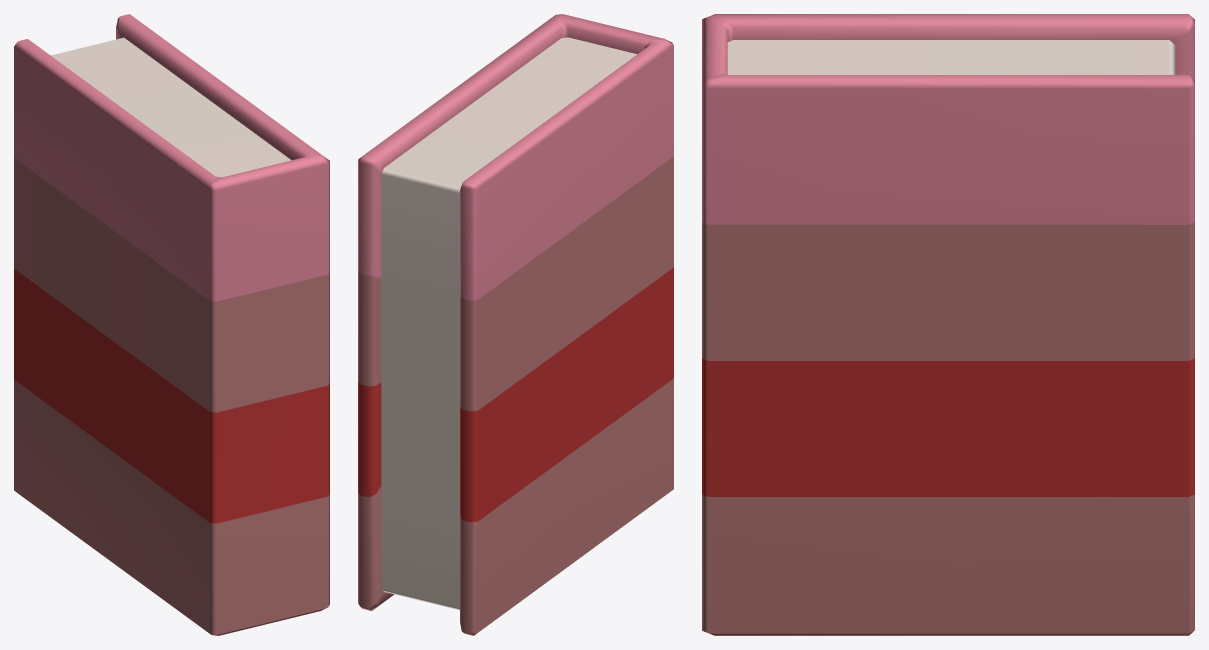
Rendered from Book_15.glb.
3 renders of one model, left to right at view 1: azimuth 30°, elevation 25°; view 2: azimuth 150°, elevation 25°; view 3: azimuth 270°, elevation 25°, orthographic. The views are drawn at different scales.
Parts seen in each view (by area): view 1: Book_15; view 2: Book_15; view 3: Book_15.
Boxes of the visible parts, <box> form: Book_15: <box>14,14,329,635</box>; Book_15: <box>358,14,673,635</box>; Book_15: <box>702,14,1194,635</box>.
Size of the model in its own units: 0.0869 by 0.3133 by 0.252.
1 material, 1 textured.
